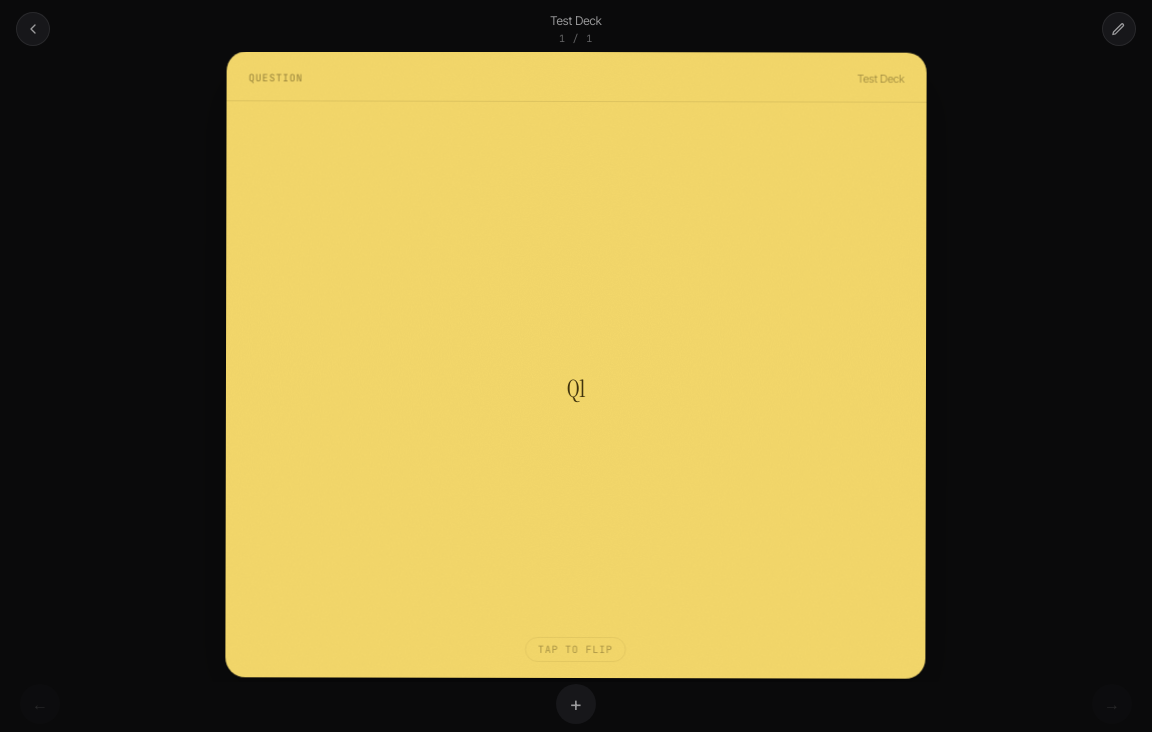
StudyViewer — inline edit with empty faces (#21) › blurring after clearing the only filled face saves nothing and shows the last saved text
Click the button named "edit card" at {"x": 1119, "y": 29}, box [1102, 12, 1136, 46]
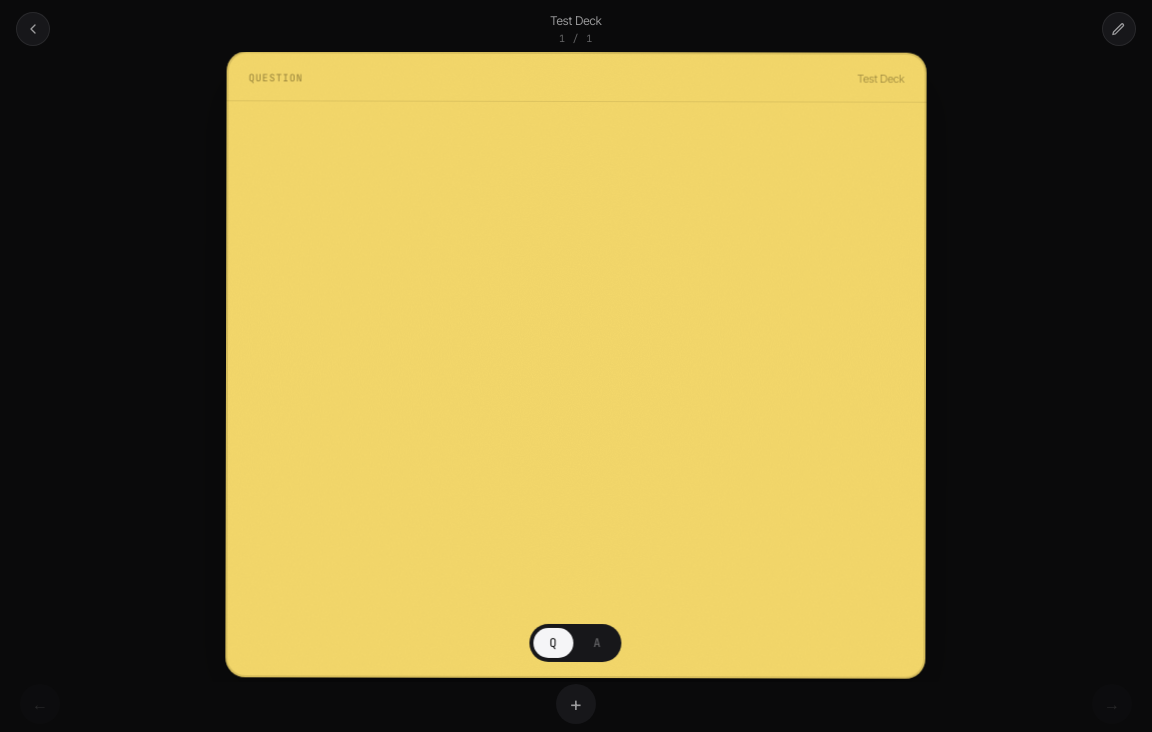
Click the 1st text "Test Deck" at {"x": 576, "y": 21}, box [550, 12, 602, 30]
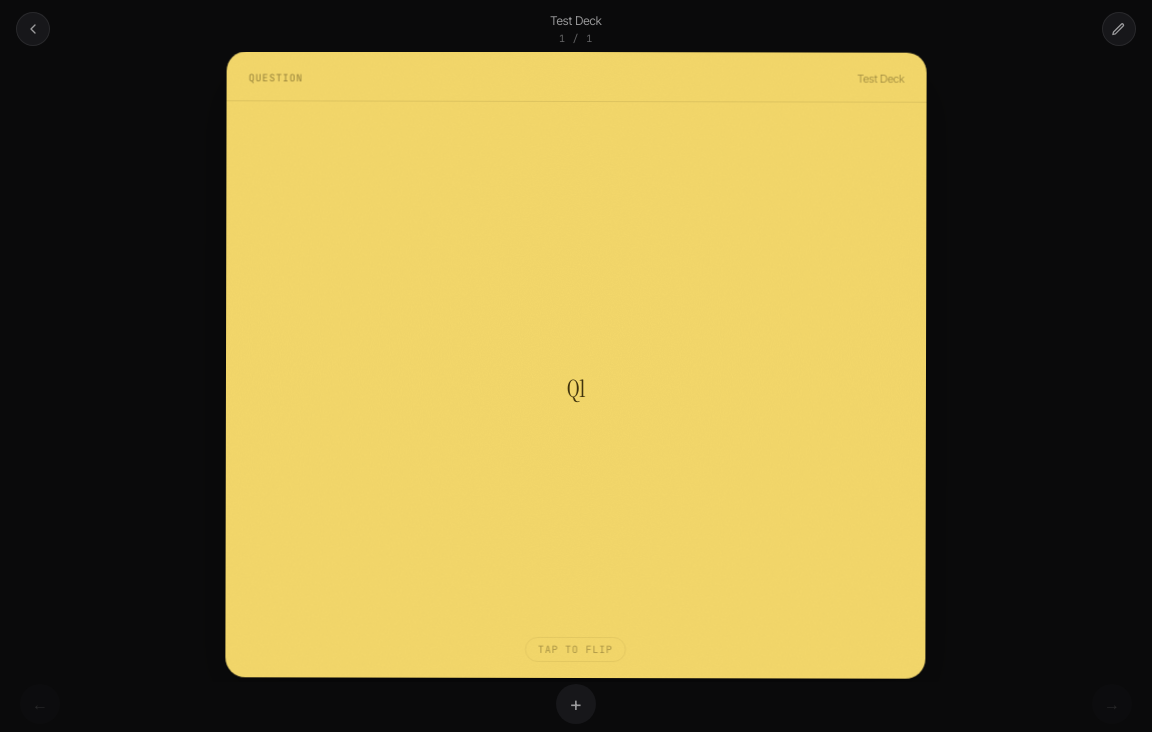
Expected: the text "Q1" is shown, [567, 373, 585, 404]
